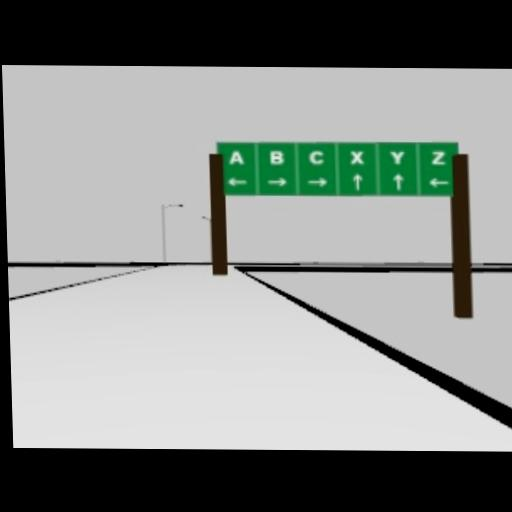A: (227, 148, 242, 163)
B: (269, 148, 284, 164)
C: (308, 149, 323, 162)
Left: (428, 176, 448, 186), (226, 177, 246, 185)
Right: (306, 175, 327, 185), (266, 177, 286, 185)
Straight: (391, 171, 404, 189), (352, 172, 363, 189)
X: (350, 149, 363, 162)
Y: (389, 147, 404, 162)
Z: (431, 148, 446, 163)
